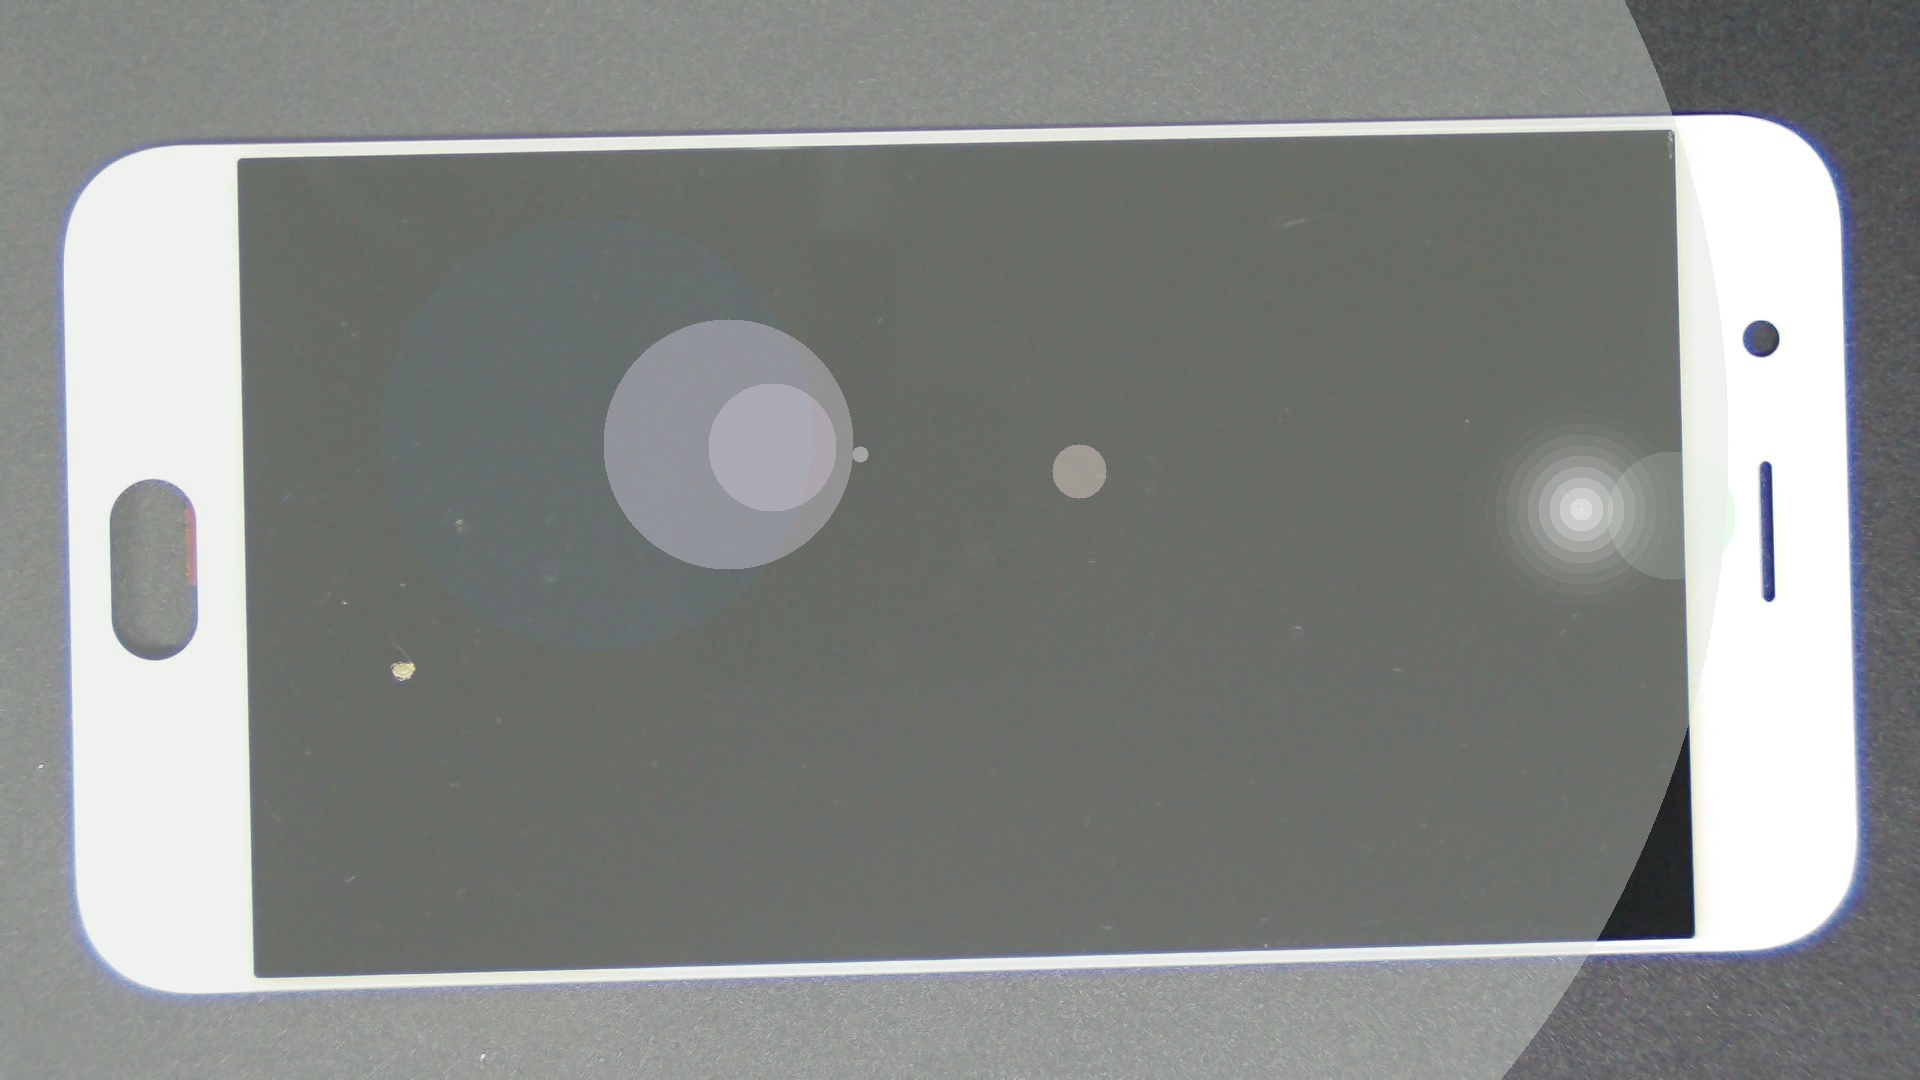oil: (195, 330, 587, 992)
